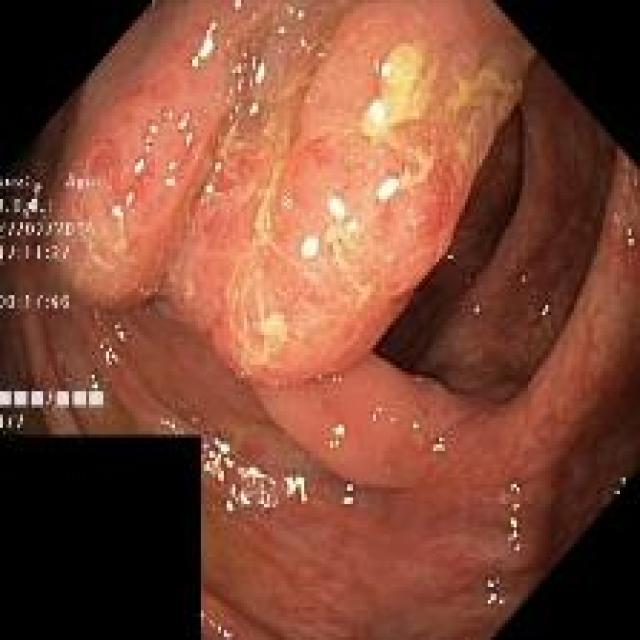Polyps: (0, 1, 537, 387)
